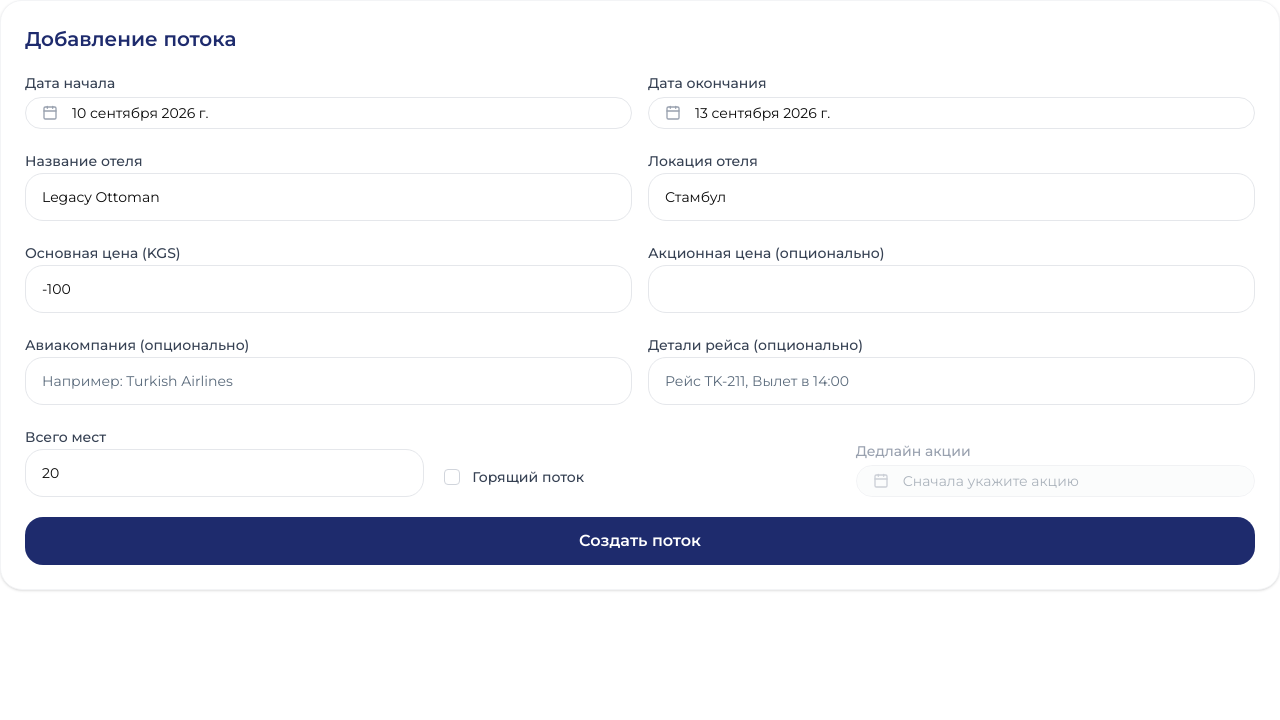
Scenario: TourSetForm › отклоняет отрицательную цену
Click the button "Создать поток".
click(640, 541)  # box [25,517,1255,565]
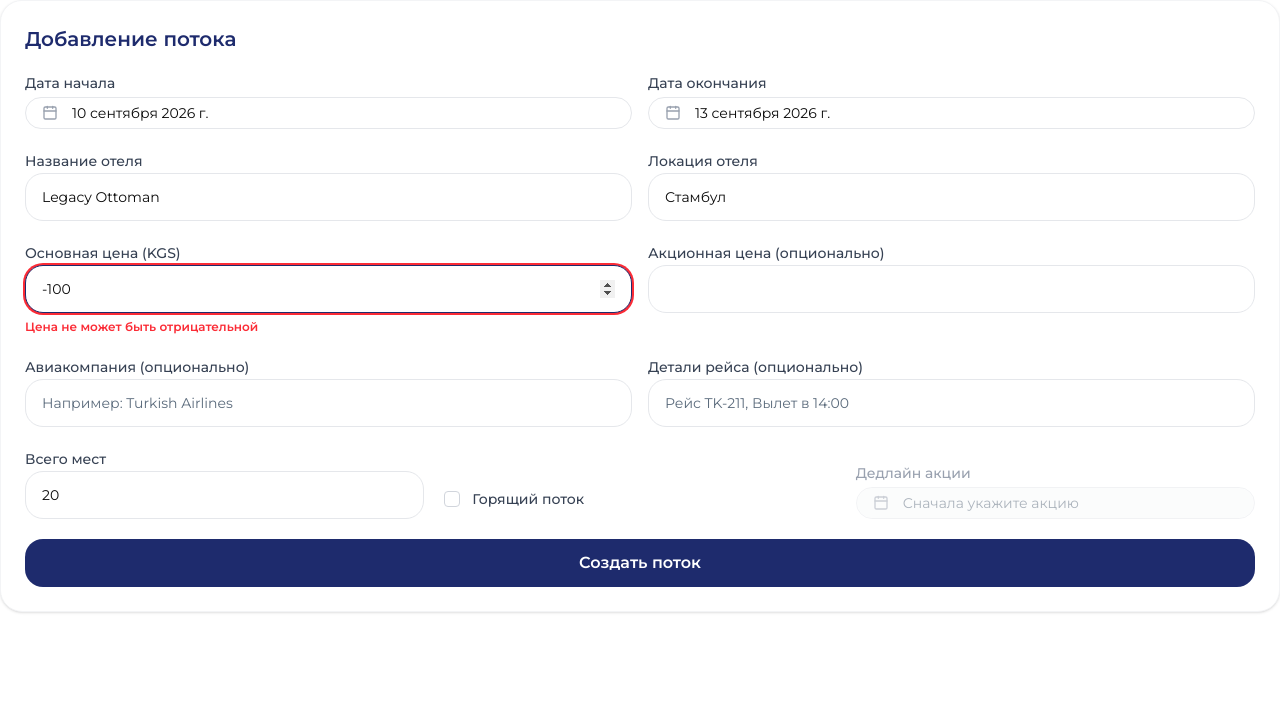
Expected: the text "Цена не может быть отрицательной" is shown, [25,319,258,334]
